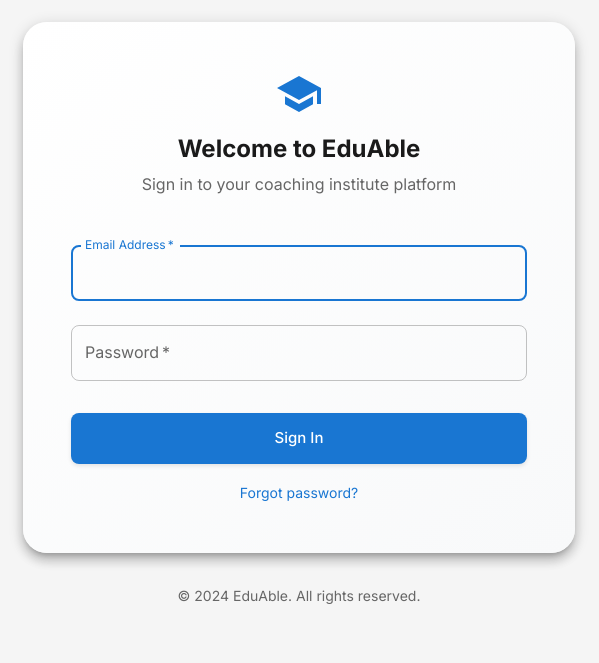
Test: Shell App E2E › should show validation errors on login form
The width and height of the screenshot is (599, 663).
Click the submit button at (299, 438), box [71, 413, 527, 463]
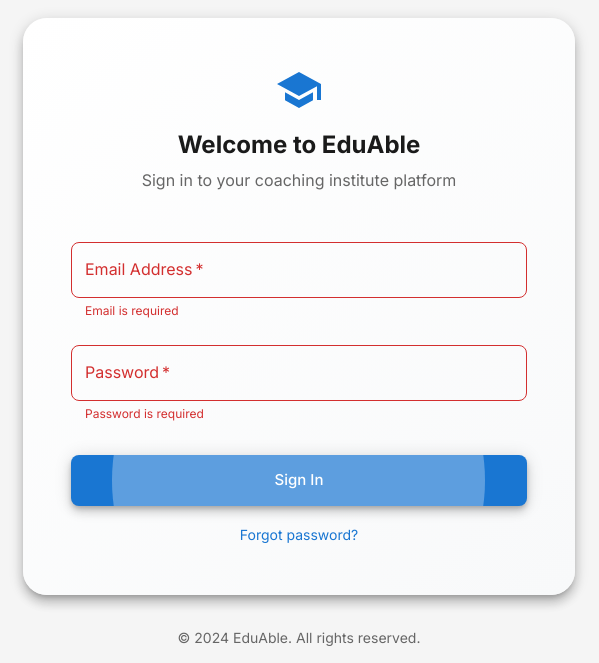
Now the text "Email is required" is shown, box [85, 303, 179, 318]
Now the text "Password is required" is shown, box [85, 406, 204, 420]
